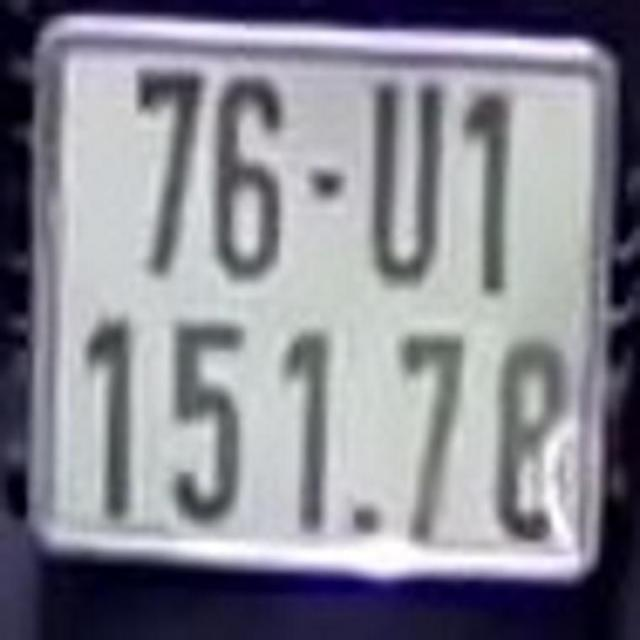1: (460, 74, 520, 297), (278, 313, 336, 538), (82, 312, 144, 519)
5: (172, 306, 246, 528)
6: (207, 48, 289, 282)
7: (132, 48, 200, 284), (396, 314, 464, 544)
8: (500, 315, 570, 544)
U: (370, 70, 444, 286)
